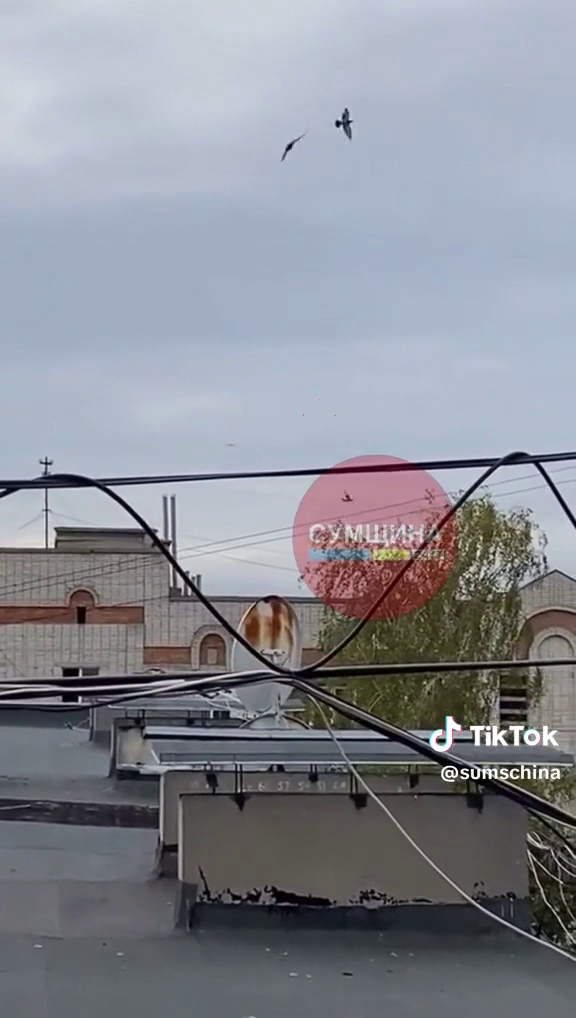not_drone: (278, 129, 309, 165), (332, 104, 359, 144)
